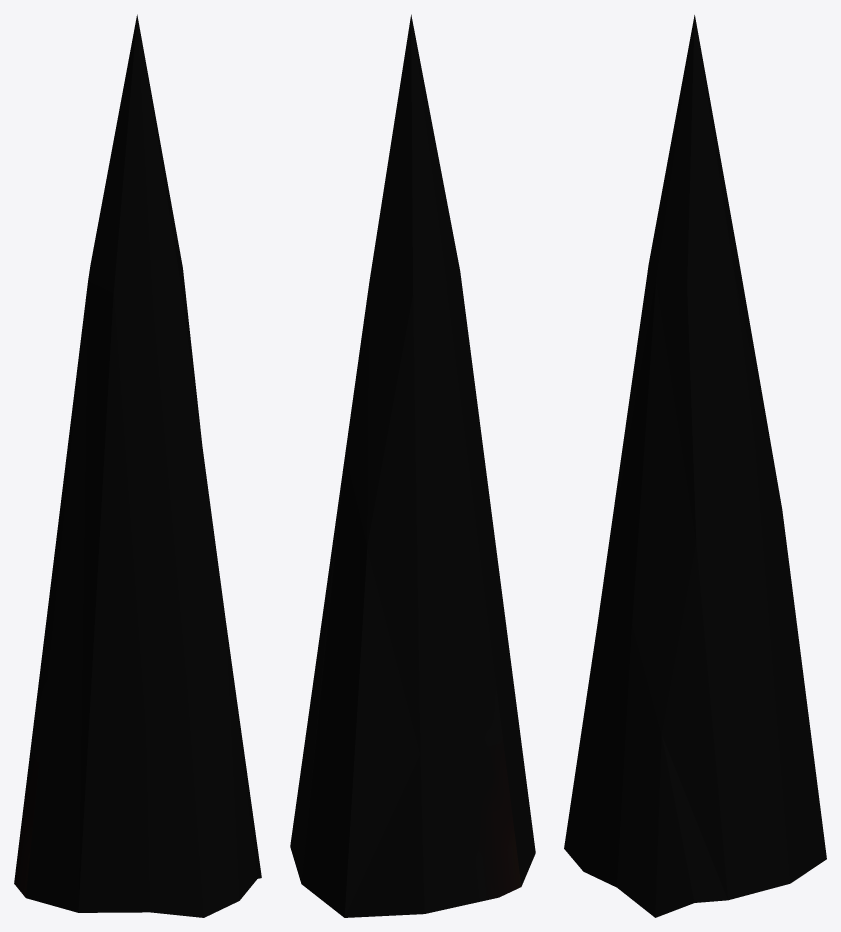
Rendered from 0043_HT_FX_GouPaLuWeng_Goupaluweng_Mesh.glb.
3 renders of one model, left to right at view 1: azimuth 30°, elevation 25°; view 2: azimuth 150°, elevation 25°; view 3: azimuth 270°, elevation 25°, orthographic. The views are drawn at different scales.
Size of the model in its own units: 0.583 by 2.2 by 0.6139.
1 material, 1 textured.
